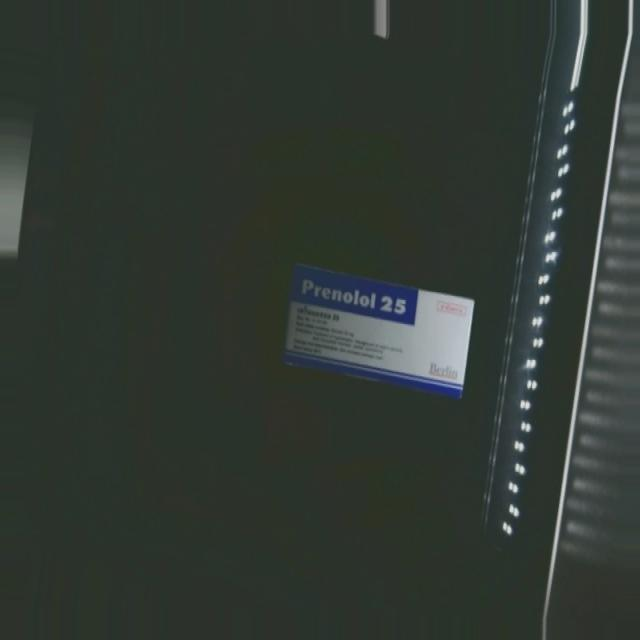prenolol: (268, 256, 484, 408)
